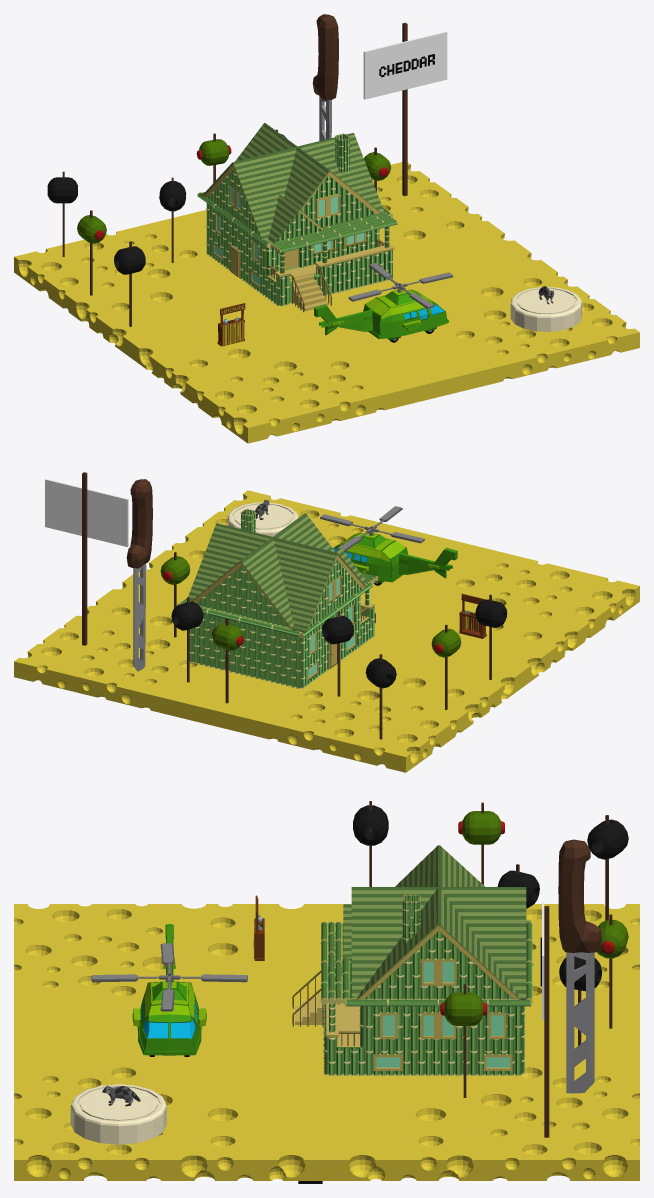
The picture shows the model from 3 angles, top to bottom: view 1: azimuth 30°, elevation 25°; view 2: azimuth 150°, elevation 25°; view 3: azimuth 270°, elevation 25°; orthographic projection. The views are drawn at different scales.
Parts seen in each view (by area): view 1: Cube.022, Cube.1327, Cube.023, VEHICLES_HELICOPTER, Cylinder.016, Cube.024, Sphere.017, Sphere.016, OBJRANDOM_LEMONADE_STAND, Sphere.020, Sphere.018, Sphere.022 (+1 smaller); view 2: Cube.022, Cube.1327, Cube.023, VEHICLES_HELICOPTER, Cube.024, Cylinder.016, Sphere.020, Sphere.016, Sphere.022, Sphere.017, Sphere.021, Sphere.018 (+2 smaller); view 3: Cube.022, Cube.1327, Cube.024, VEHICLES_HELICOPTER, Cylinder.016, Cube.023, Sphere.019, Sphere.016, Sphere.018, Sphere.017, Sphere.022, Sphere.020 (+2 smaller).
Part boxes in pixels (x1=…): Cube.022: x1=14, y1=162, x2=639, y2=443; Cube.1327: x1=197, y1=123, x2=397, y2=312; Cube.023: x1=363, y1=22, x2=447, y2=196; VEHICLES_HELICOPTER: x1=314, y1=263, x2=453, y2=342; Cylinder.016: x1=510, y1=287, x2=581, y2=331; Cube.024: x1=312, y1=14, x2=338, y2=140; Sphere.017: x1=114, y1=241, x2=145, y2=326; Sphere.016: x1=47, y1=171, x2=77, y2=256; OBJRANDOM_LEMONADE_STAND: x1=217, y1=303, x2=245, y2=346; Sphere.020: x1=159, y1=177, x2=186, y2=262; Sphere.018: x1=77, y1=210, x2=106, y2=295; Sphere.022: x1=196, y1=133, x2=231, y2=182; Cube.022: x1=14, y1=490, x2=639, y2=772; Cube.1327: x1=177, y1=509, x2=378, y2=688; Cube.023: x1=45, y1=472, x2=128, y2=645; VEHICLES_HELICOPTER: x1=320, y1=506, x2=457, y2=585; Cube.024: x1=126, y1=479, x2=152, y2=671; Cylinder.016: x1=227, y1=502, x2=298, y2=536; Sphere.020: x1=322, y1=611, x2=353, y2=696; Sphere.016: x1=365, y1=654, x2=396, y2=739; Sphere.022: x1=212, y1=618, x2=243, y2=703; Sphere.017: x1=475, y1=594, x2=507, y2=679; Sphere.021: x1=171, y1=597, x2=203, y2=682; Sphere.018: x1=431, y1=624, x2=461, y2=709; Cube.022: x1=14, y1=904, x2=639, y2=1180; Cube.1327: x1=292, y1=845, x2=532, y2=1075; Cube.024: x1=558, y1=839, x2=601, y2=1093; VEHICLES_HELICOPTER: x1=91, y1=924, x2=247, y2=1056; Cylinder.016: x1=70, y1=1084, x2=166, y2=1144; Cube.023: x1=540, y1=902, x2=549, y2=1137; Sphere.019: x1=440, y1=984, x2=487, y2=1097; Sphere.016: x1=587, y1=815, x2=628, y2=920; Sphere.018: x1=458, y1=802, x2=504, y2=884; Sphere.017: x1=353, y1=801, x2=388, y2=886; Sphere.022: x1=597, y1=914, x2=628, y2=1028; Sphere.020: x1=497, y1=864, x2=539, y2=908.
Size of the model in its own units: 3917 by 2015 by 4000.
35 materials, 4 textured.
